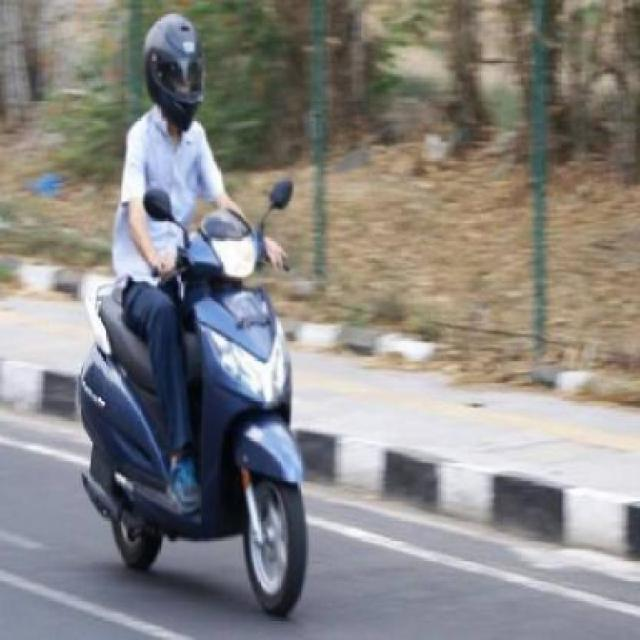helmet: (122, 15, 227, 132)
motorcycle: (53, 14, 334, 624)
